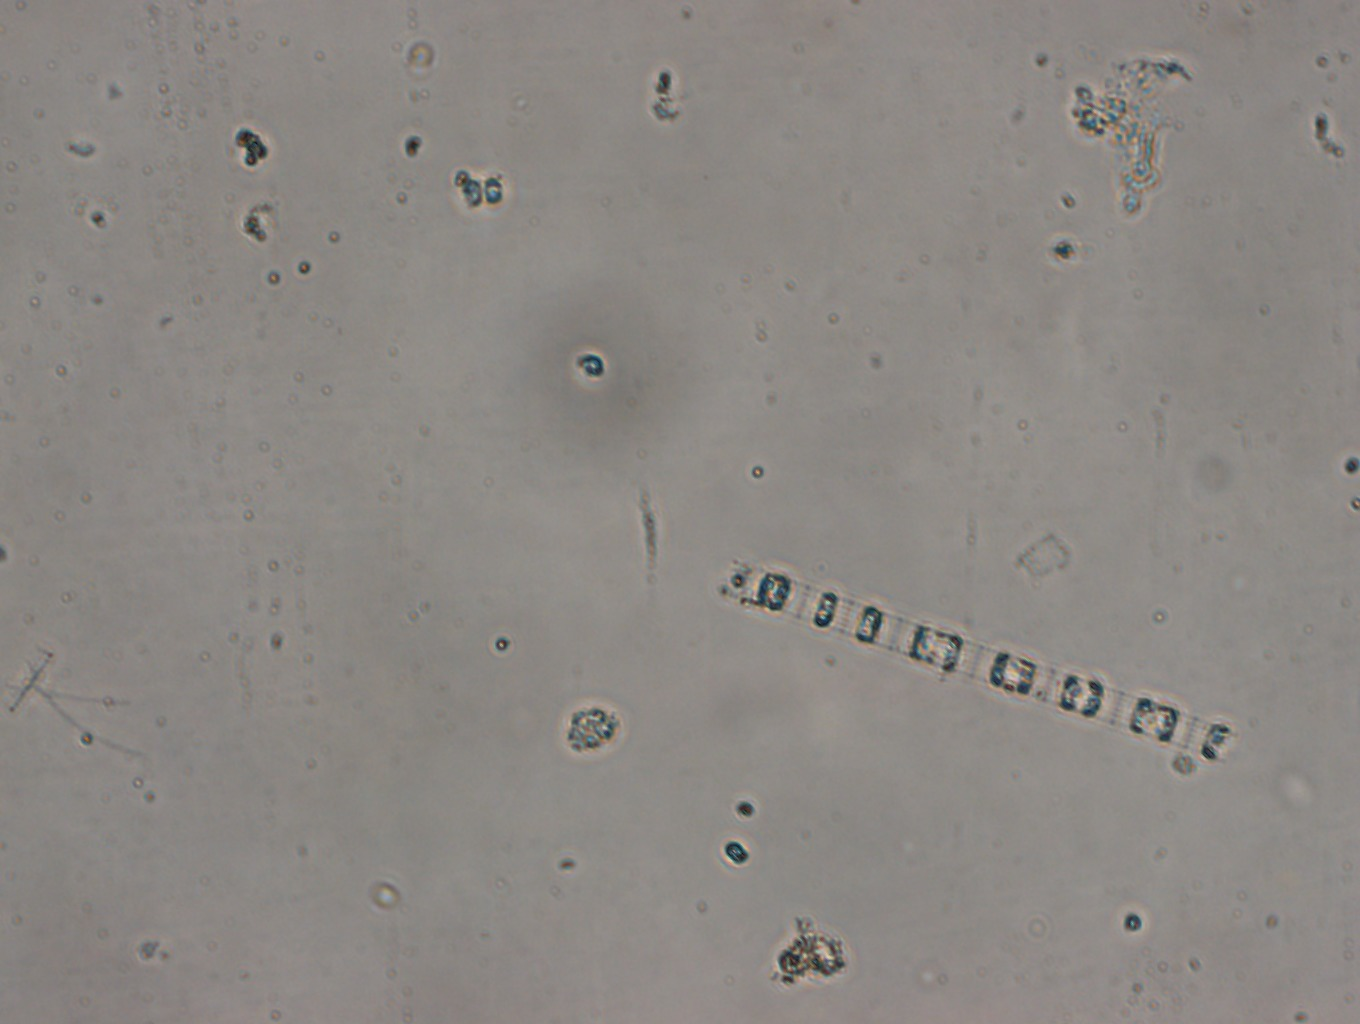skeletonema: (708, 553, 1239, 760)
